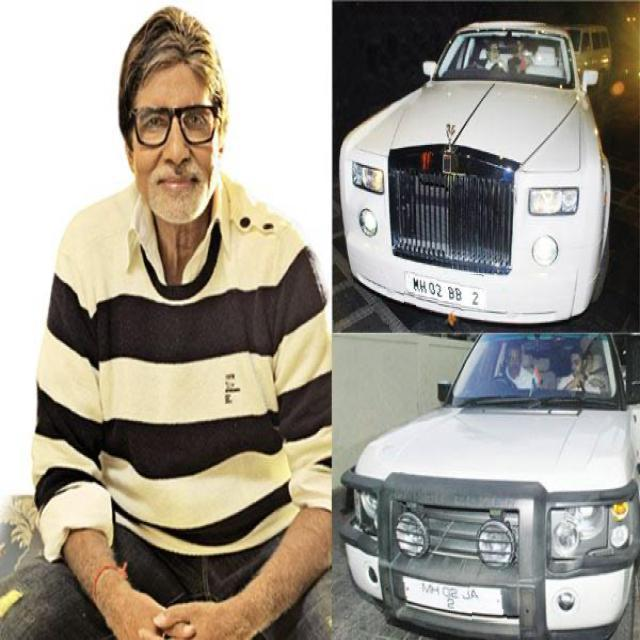licence: (401, 575, 507, 623), (403, 272, 484, 312)
